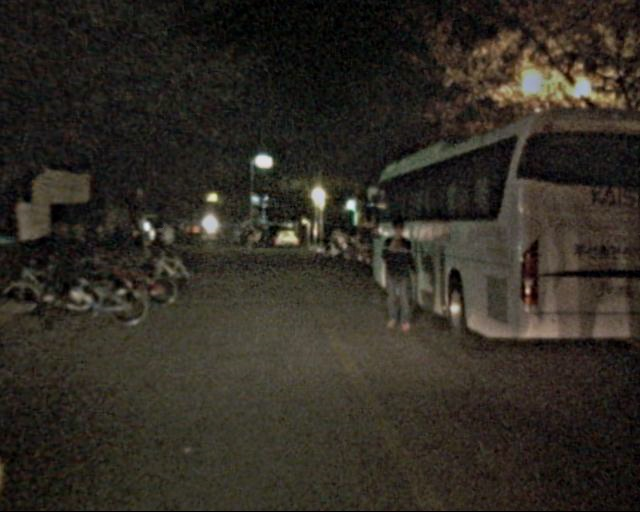person: (376, 223, 421, 333), (157, 217, 181, 275)
